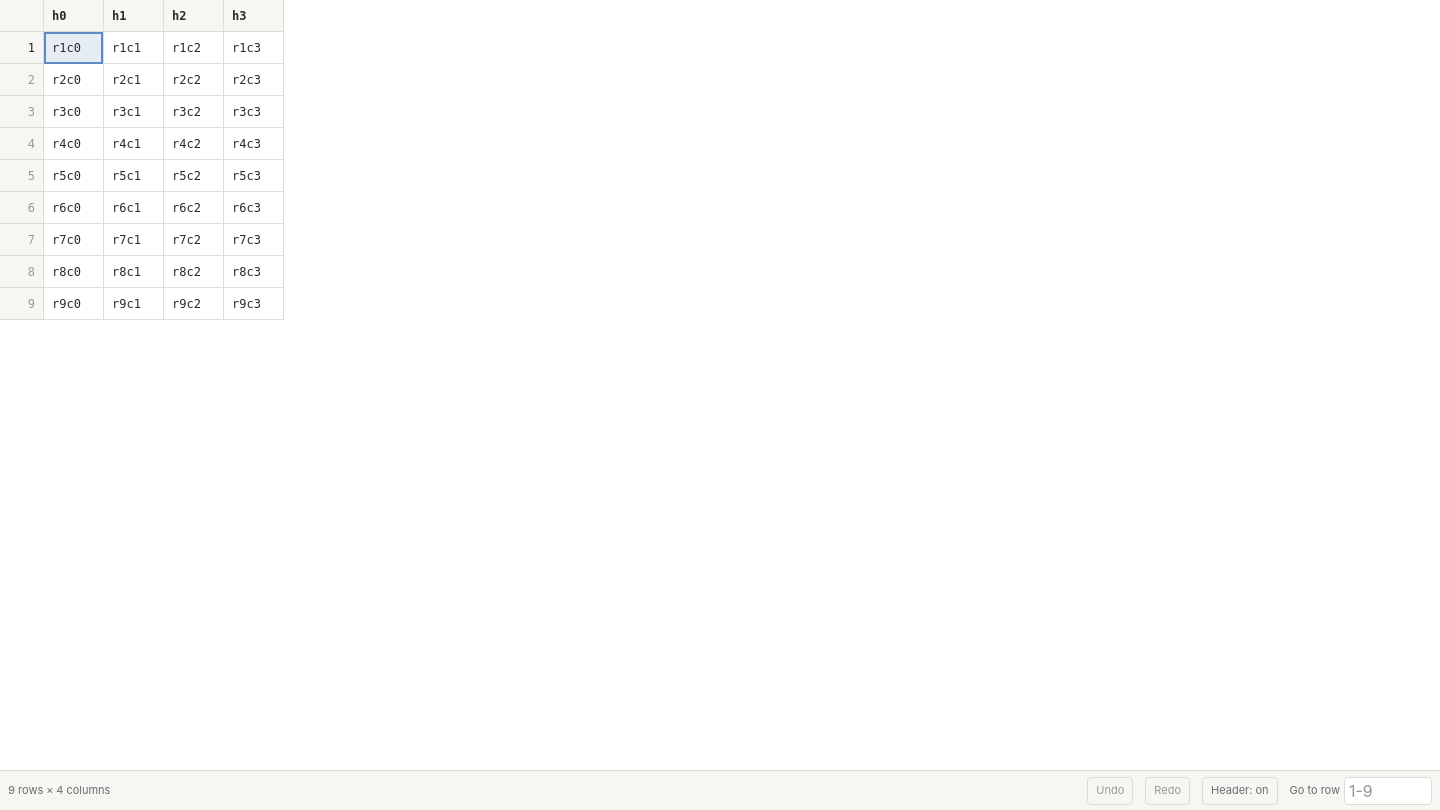
Test: on a phone › opens the same menu on a long press, at the touch point
Press the mouse on the cell "r2c1" at (134, 80), box [104,64,164,96]
Wait 500 ms
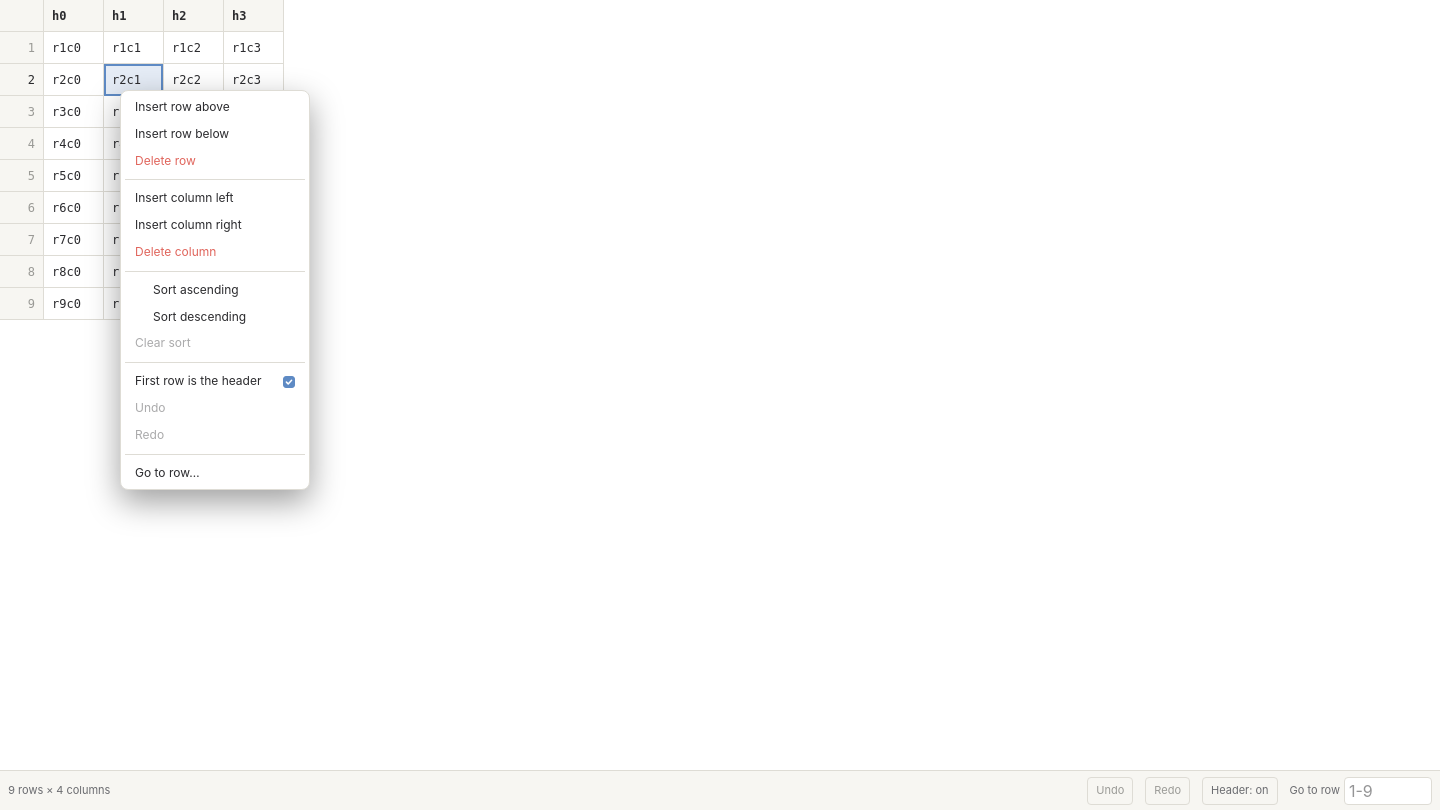
Now the menu with test id "context-menu" is shown, box [120,90,310,490]
Now the text "Insert row above" is shown, box [135,99,230,114]
